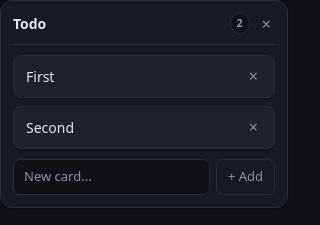
Scenario: Column renaming › discards the edit on Escape
Double-click the heading "Todo" at (30, 24), box [13, 14, 46, 33]
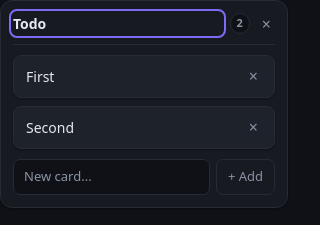
Replace the text in the field named "Column title" with "Discarded". click: (117, 24)
box: [13, 13, 222, 34]
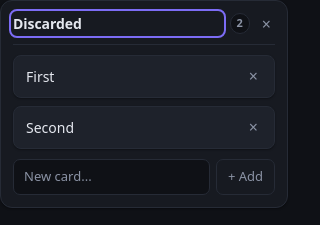
Press Escape in the field named "Column title", box [13, 13, 222, 34]
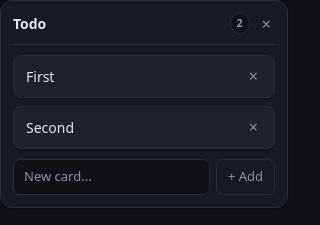
Check: the heading "Todo" is shown, box [13, 14, 46, 33]
